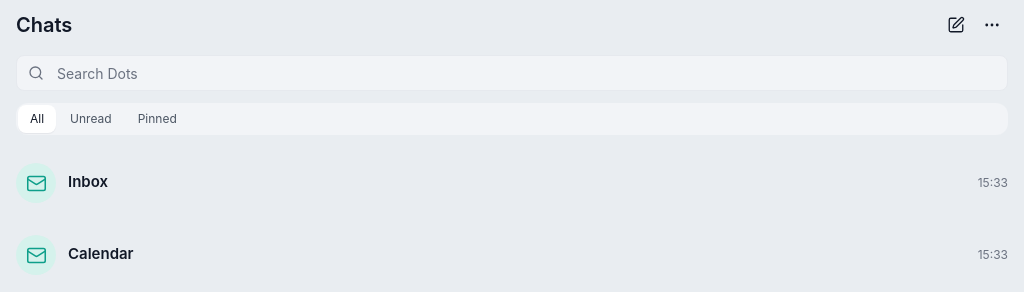
ListPane › filters by search and shows the empty message
The image size is (1024, 292).
Check: the text "Inbox" is shown, box [68, 172, 108, 191]
Check: the text "Calendar" is shown, box [68, 244, 134, 263]
Step 1. Type "cal" into the field labelled "Search Dots" → (512, 73), box [16, 55, 1008, 91]
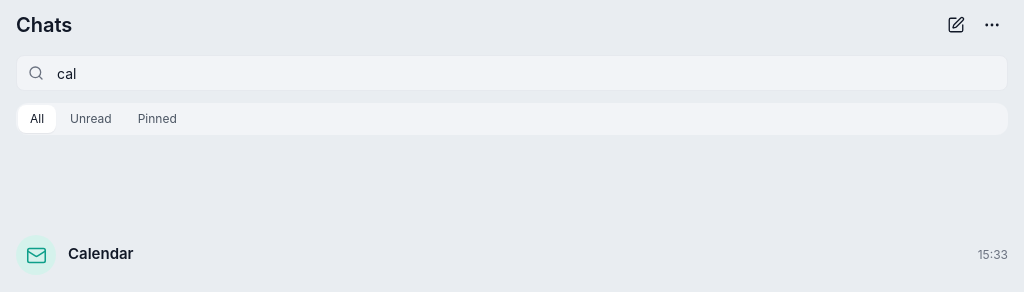
Check: the text "Calendar" is shown, box [68, 244, 134, 263]
Check: the button "Inbox" is gone
Step 2. Replace the text in the field named "Search Dots" with "zzz" → (512, 73), box [16, 55, 1008, 91]
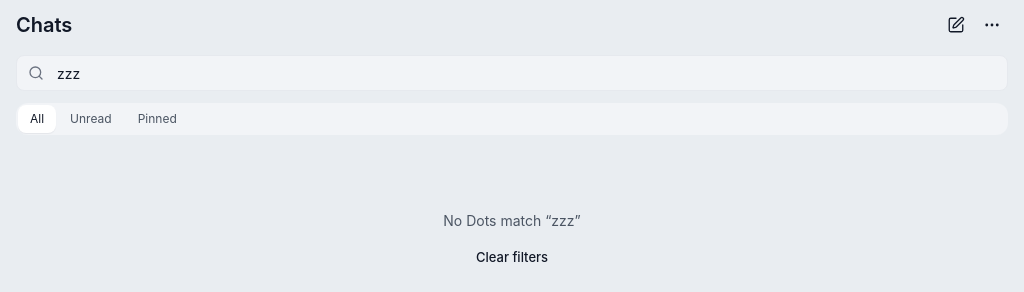
Check: the text "No Dots match “zzz”" is shown, box [443, 211, 581, 231]
